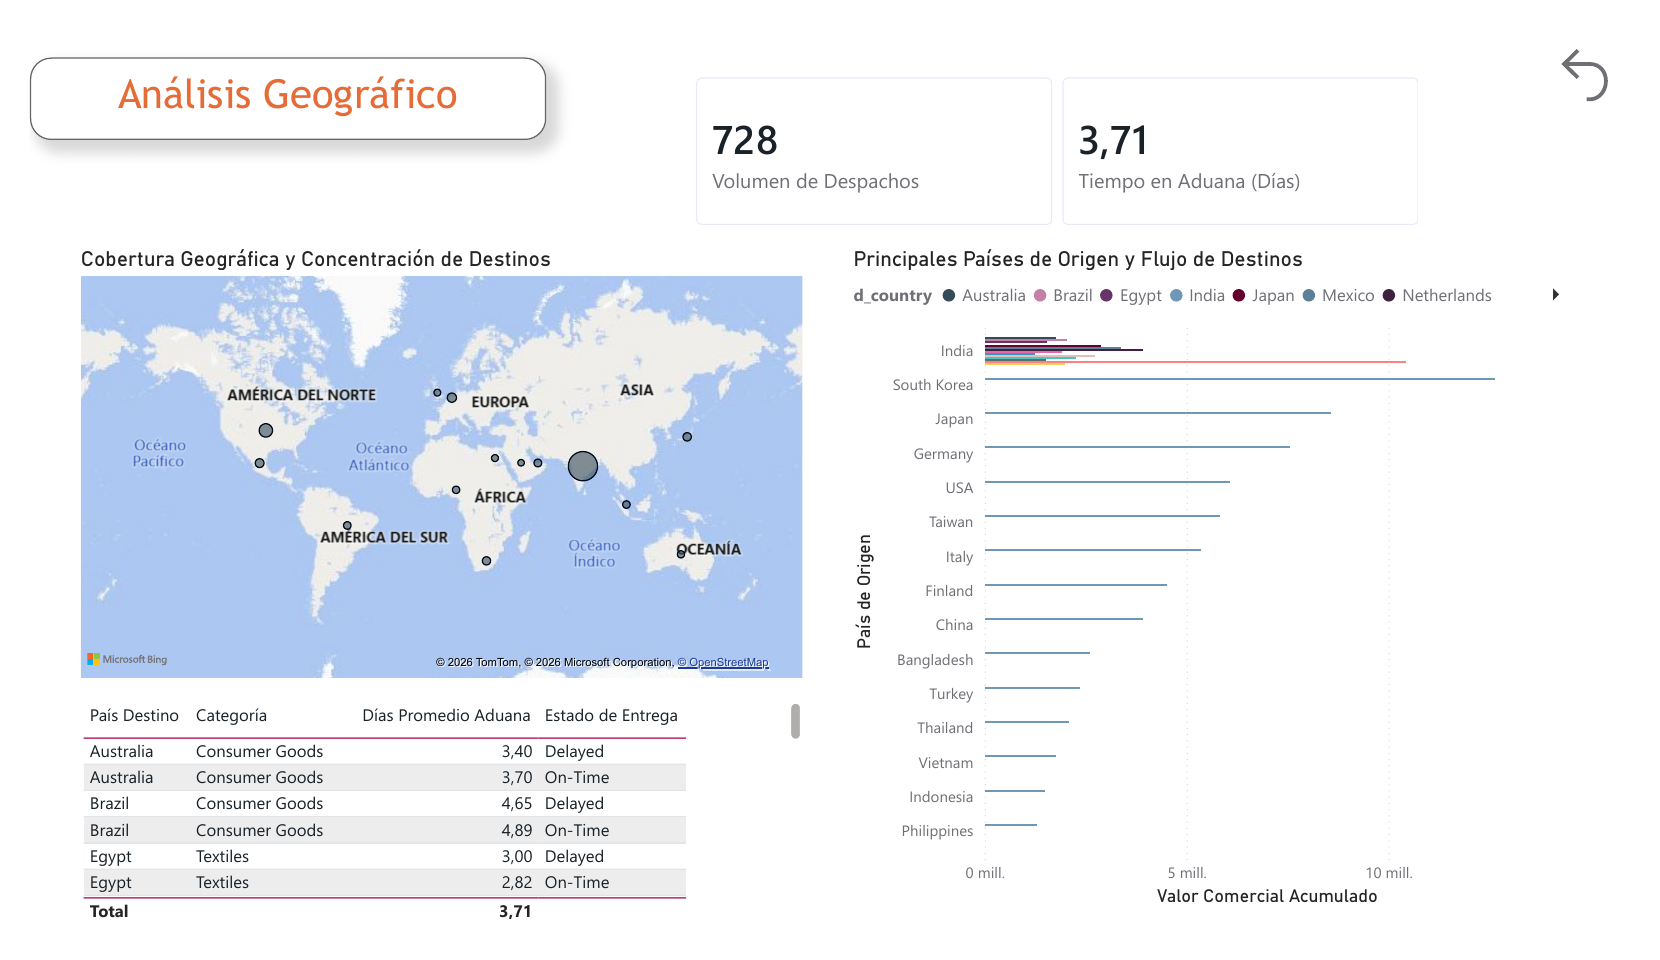

The page's visual inventory and layout, read from the dashboard file:
{"tool":"powerbi","page":{"name":"Análisis Geográfico","canvas":[1280,720],"ordinal":4},"visuals":[{"type":"actionButton","box":[1208,0,72,72],"z":0},{"type":"textbox","box":[0,21.7,413.3,66.7],"z":1000},{"type":"cardVisual","fields":{"Data":["CountNonNull(shipment.shipment_id)","Avg(shipment.customs_clearance_time_days)"]},"box":[515.7,21.4,612.9,151.4],"z":2000},{"type":"map","title":"Cobertura Geográfica y Concentración de Destinos","fields":{"Category":["shipment.d_country"],"Size":["Sum(shipment.value)"]},"box":[35.7,172.9,587.1,350],"z":3000},{"type":"clusteredBarChart","title":"Principales Países de Origen y Flujo de Destinos","fields":{"Category":["shipment.o_country"],"Series":["shipment.d_country"],"Y":["Sum(shipment.value)"]},"box":[654.3,172.9,585.7,532.9],"z":4000},{"type":"tableEx","fields":{"Values":["shipment.d_country","shipment.product_category","Avg(shipment.customs_clearance_time_days)","shipment.delivery_status"]},"box":[36.7,533.3,585,186.7],"z":5000}]}

Visuals, with their boxes in screenshot pixels (x1, y1, x2, y2), scaled from the page's 1280x720 canvas onto the 1660x960 screenshot:
actionButton: bbox=[1567, 0, 1659, 96]
textbox: bbox=[0, 29, 536, 118]
cardVisual - CountNonNull(shipment.shipment_id) x Avg(shipment.customs_clearance_time_days): bbox=[669, 29, 1464, 230]
"Cobertura Geográfica y Concentración de Destinos" map: bbox=[46, 231, 808, 697]
"Principales Países de Origen y Flujo de Destinos" clusteredBarChart: bbox=[849, 231, 1608, 941]
tableEx - shipment.d_country x shipment.product_category: bbox=[48, 711, 806, 959]
